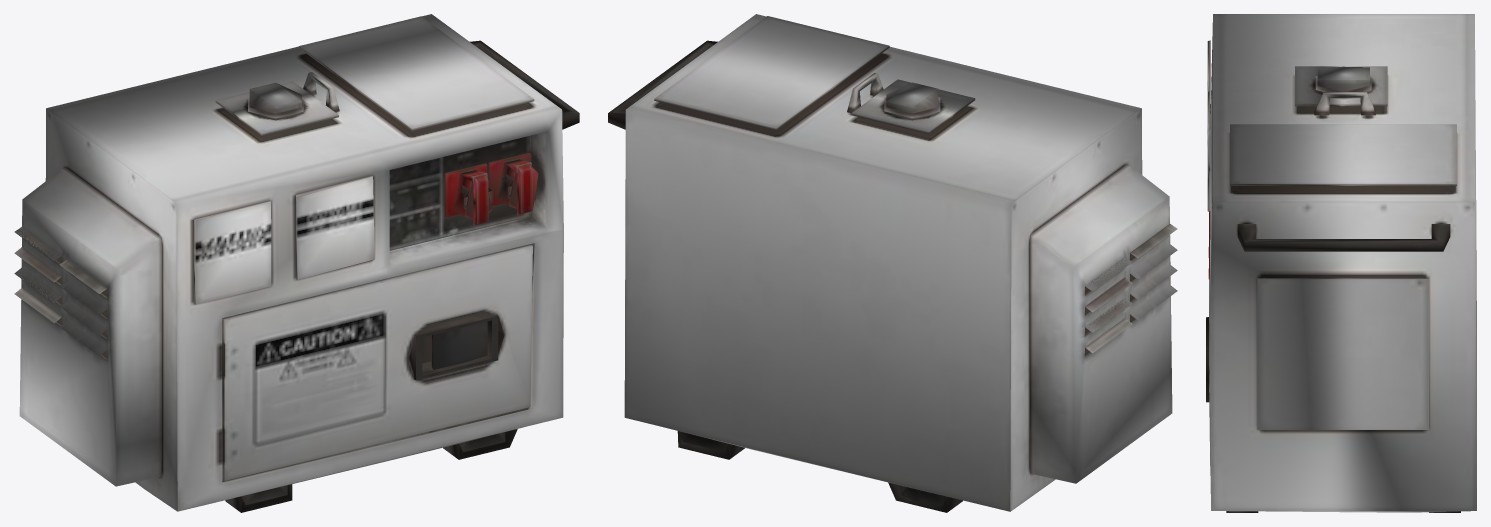
The model's file is gen-diesel.lod0.glb.
3 renders of one model, left to right at view 1: azimuth 30°, elevation 25°; view 2: azimuth 150°, elevation 25°; view 3: azimuth 270°, elevation 25°, orthographic.
Parts seen in each view (by area): view 1: defaultMaterial; view 2: defaultMaterial; view 3: defaultMaterial.
Part boxes in pixels (x1,y1,x2,y2): defaultMaterial: (14, 14, 579, 512); defaultMaterial: (608, 14, 1177, 512); defaultMaterial: (1206, 14, 1476, 512).
Size of the model in its own units: 2.74 by 1.96 by 1.35.
Materials: 1 (1 with a texture image).
